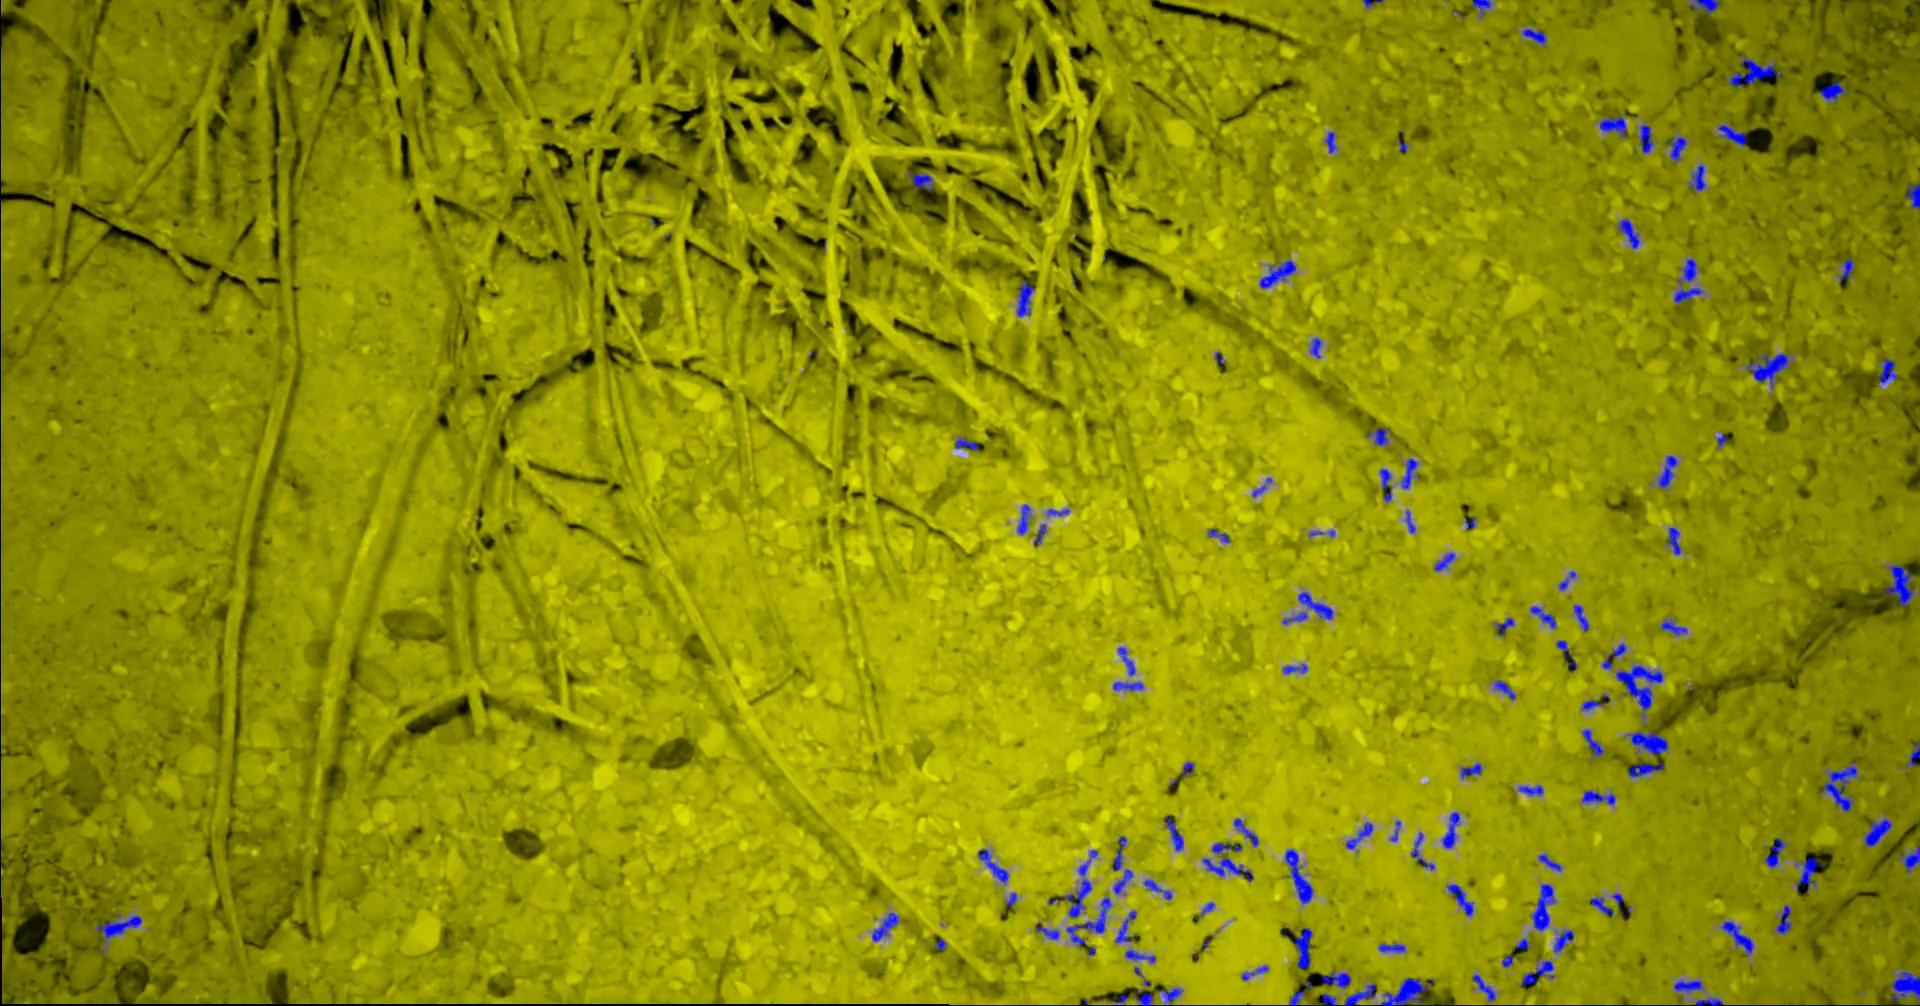ant: (1059, 848, 1097, 917), (1615, 664, 1662, 716), (1065, 897, 1111, 945), (1203, 842, 1252, 882), (1820, 761, 1857, 810), (1726, 55, 1780, 86), (1284, 848, 1312, 903), (1380, 977, 1434, 1005), (1746, 353, 1789, 387), (1672, 258, 1703, 304), (97, 915, 141, 942), (1883, 564, 1912, 605), (1719, 920, 1752, 955), (1531, 883, 1556, 930), (977, 848, 1008, 883), (1258, 259, 1295, 288), (1297, 591, 1333, 619), (1625, 730, 1667, 754), (1890, 970, 1919, 1005), (1796, 856, 1822, 892), (1410, 832, 1434, 869), (1446, 883, 1473, 916), (871, 911, 898, 941), (1520, 960, 1553, 984), (1863, 818, 1891, 846), (1114, 909, 1137, 942), (1345, 821, 1371, 848), (1233, 818, 1258, 846), (1343, 983, 1375, 1005), (1898, 840, 1919, 873), (1294, 927, 1310, 968), (1617, 218, 1639, 248), (1016, 279, 1034, 316), (1164, 815, 1183, 850), (1657, 455, 1677, 486), (1556, 639, 1576, 671), (1601, 643, 1625, 669), (1599, 114, 1625, 137), (1472, 973, 1495, 1000), (1443, 810, 1459, 847), (1582, 728, 1604, 756), (1818, 81, 1848, 102), (1717, 124, 1746, 145), (1764, 838, 1784, 868), (1529, 606, 1556, 627), (1143, 879, 1171, 899), (1627, 762, 1663, 777), (1877, 358, 1897, 385), (1321, 970, 1350, 988), (1117, 647, 1135, 674), (1112, 835, 1126, 870), (1401, 459, 1417, 488), (1581, 790, 1615, 804), (1688, 164, 1705, 191), (1553, 929, 1573, 951), (1660, 619, 1688, 635), (1112, 869, 1131, 893), (1589, 895, 1613, 915), (908, 173, 933, 191), (1775, 904, 1790, 934), (1669, 136, 1686, 160), (1689, 0, 1719, 14), (1493, 680, 1515, 699), (1016, 504, 1030, 533), (1837, 258, 1853, 285), (1573, 605, 1589, 631), (1538, 854, 1561, 871), (1241, 965, 1267, 981), (1124, 949, 1156, 962), (1521, 28, 1545, 44), (1639, 124, 1653, 152), (1903, 183, 1919, 208), (1366, 427, 1388, 445), (1159, 987, 1181, 1005), (1379, 467, 1390, 500), (1036, 922, 1059, 939), (1666, 527, 1680, 554), (1495, 617, 1514, 636), (1251, 478, 1271, 495), (1434, 553, 1454, 570), (1470, 0, 1491, 17), (1460, 762, 1481, 779), (1672, 981, 1702, 992), (1283, 611, 1307, 624), (1906, 743, 1919, 767), (1032, 523, 1046, 545), (1208, 528, 1229, 542), (1558, 572, 1575, 589), (1517, 784, 1543, 795), (1133, 989, 1152, 1005), (954, 438, 978, 450), (1112, 681, 1143, 690), (1288, 989, 1304, 1005), (1324, 131, 1336, 152), (1581, 699, 1603, 710), (1691, 997, 1723, 1005), (1378, 942, 1404, 951), (1283, 663, 1305, 673), (1178, 761, 1192, 777), (1310, 337, 1321, 358), (1404, 511, 1415, 532), (1514, 937, 1529, 949), (1501, 953, 1512, 967), (1321, 993, 1335, 1005), (1046, 508, 1069, 514)
